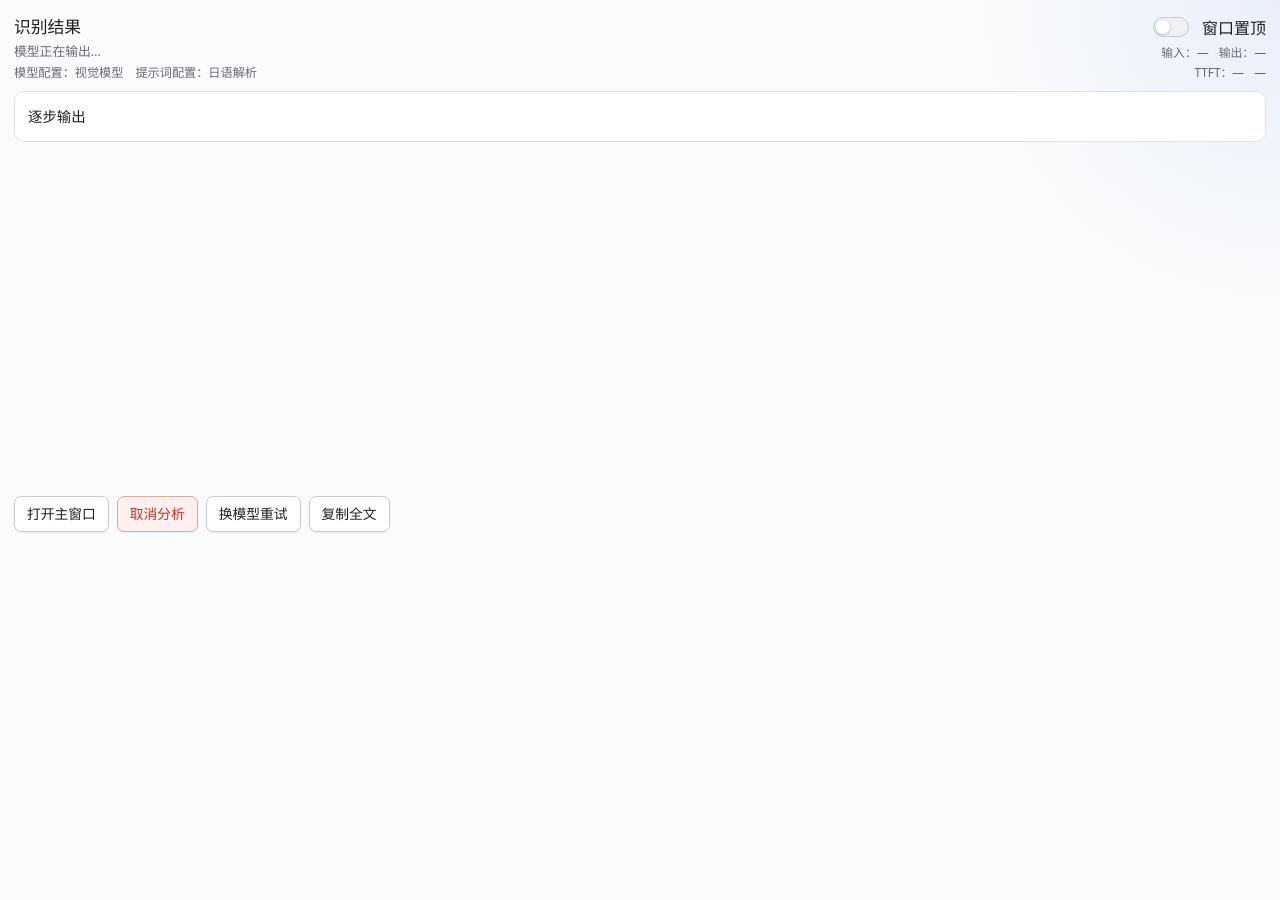
Test: Result › clears native chooser state after a successful model selection
Click the button "换模型重试": (253, 514) [206,496,301,532]
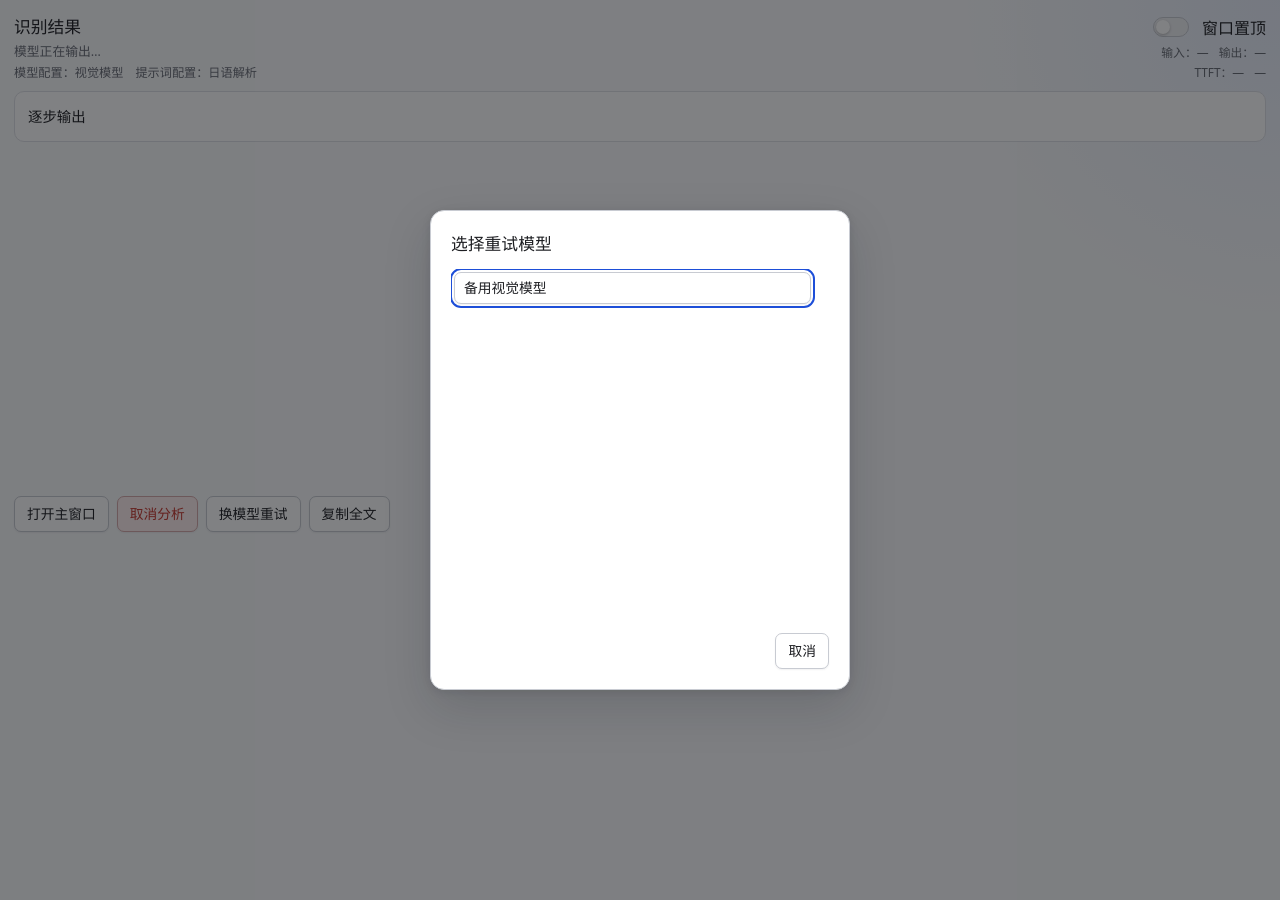
Click the button "备用视觉模型": (505, 287) [454,272,811,304]
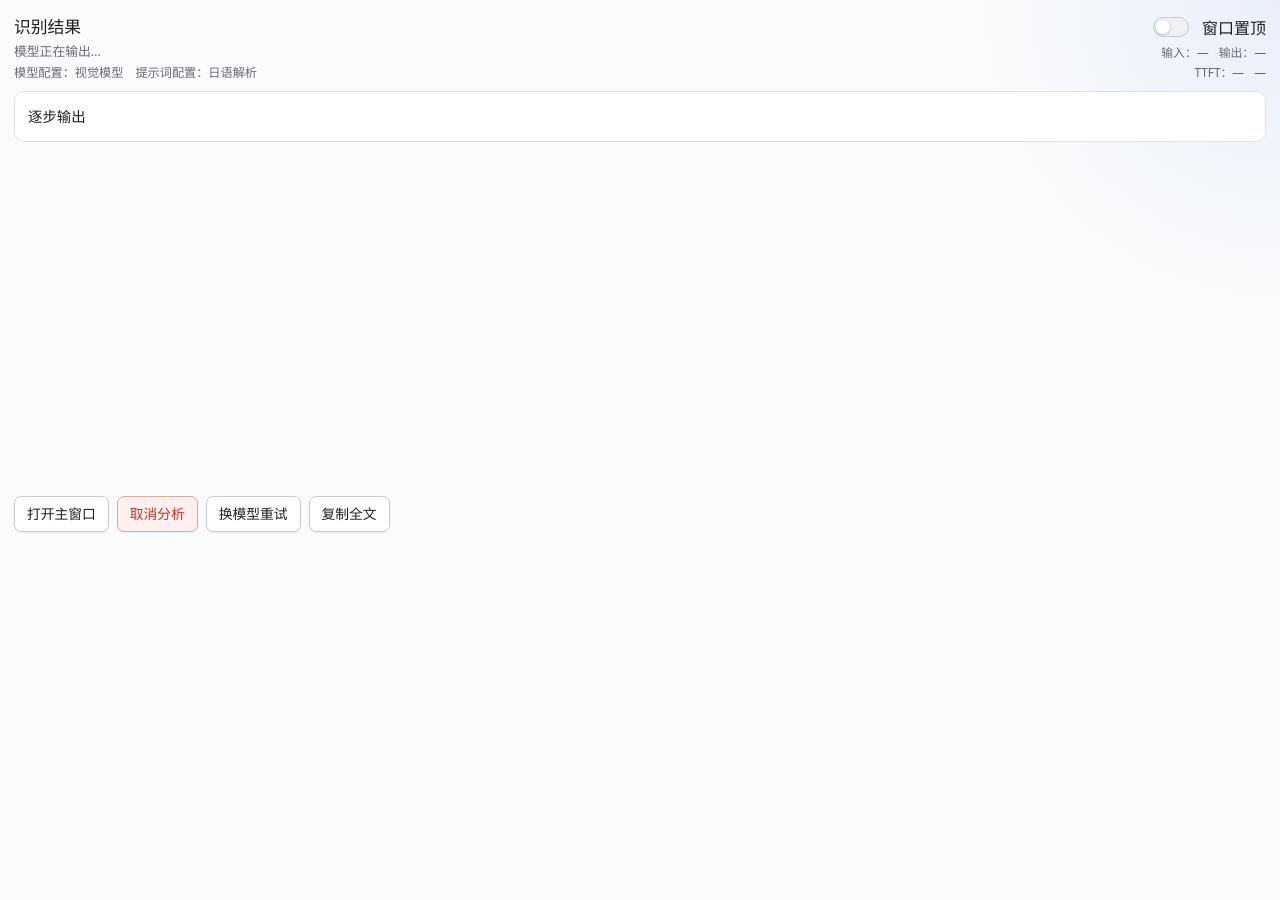
Now the dialog is gone
